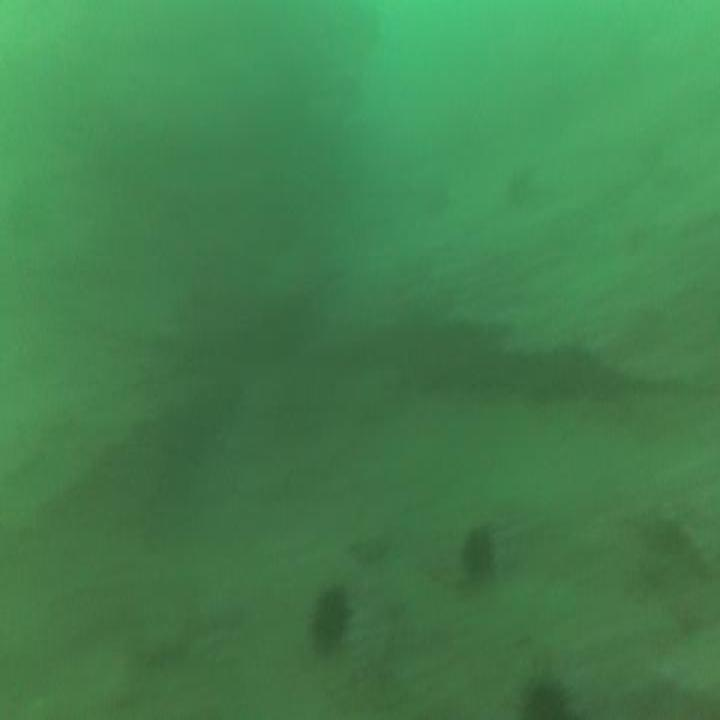echinus: (307, 580, 352, 654), (525, 670, 573, 720), (461, 519, 495, 578), (502, 160, 533, 217)
